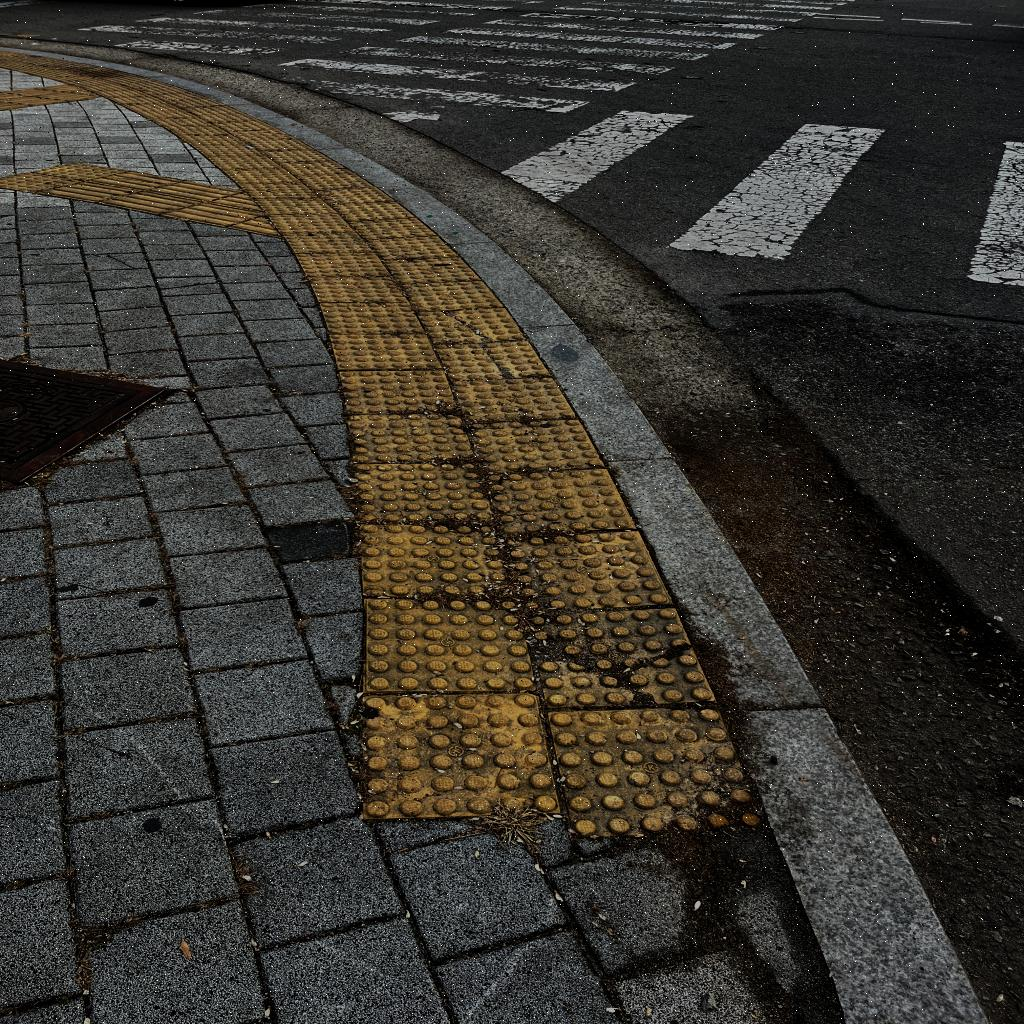Stop block broken: (525, 606, 714, 709), (417, 307, 525, 344)
Stop block normal: (366, 599, 536, 690), (465, 414, 604, 476), (338, 368, 458, 414)
